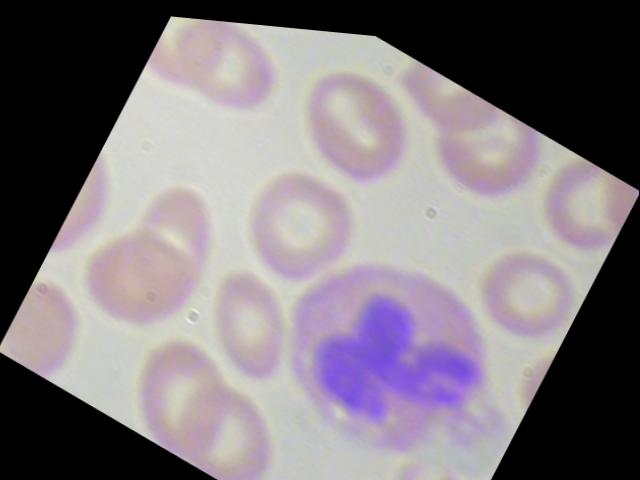Red Blood Cells: (276, 32, 436, 204), (66, 193, 220, 359), (222, 134, 370, 296), (405, 67, 556, 222), (112, 312, 253, 469), (147, 11, 302, 146), (112, 161, 246, 317), (158, 348, 307, 479), (183, 246, 315, 391), (460, 215, 593, 355), (386, 47, 507, 151), (358, 418, 492, 479), (213, 16, 342, 50)
White Blood Cells: (248, 201, 531, 479)
